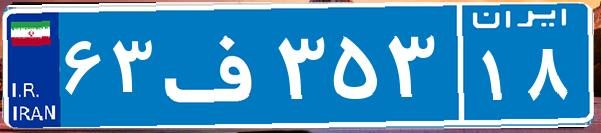1: (475, 38, 525, 113)
3: (385, 28, 445, 110), (273, 28, 330, 110), (110, 28, 158, 105)
5: (330, 28, 385, 110)
6: (57, 26, 110, 107)
8: (525, 38, 570, 115)
ف: (158, 15, 273, 115)
